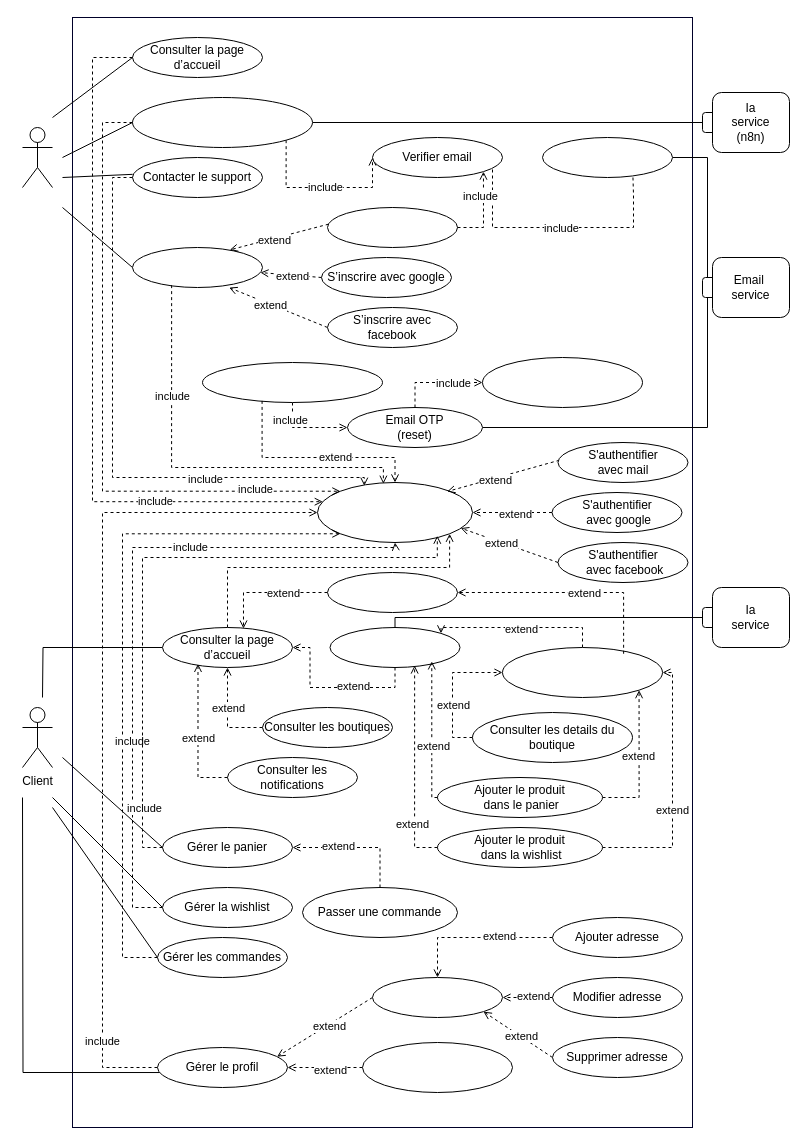
The diagram is 807 pixels wide and 1145 high, and some of its shapes have lost their labels. Each missing label, with the centre of its shape:
Consulter les details d'un produit: [582,672]
Consulter les produits: [394,647]
Email OTP (inscription): [607,157]
Gérer les adresses: [437,997]
Modifier les information du profil: [437,1067]
Oublier le mot de passe: [292,382]
Rechercher des produits: [392,592]
Réinitialiser mot de passe: [562,382]
S'authentifier: [394,512]
Soumettre une demande de création de boutique: [222,122]
S’inscrire: [197,267]
S’inscrire avec mail: [392,227]
Visiteur: [37,157]
